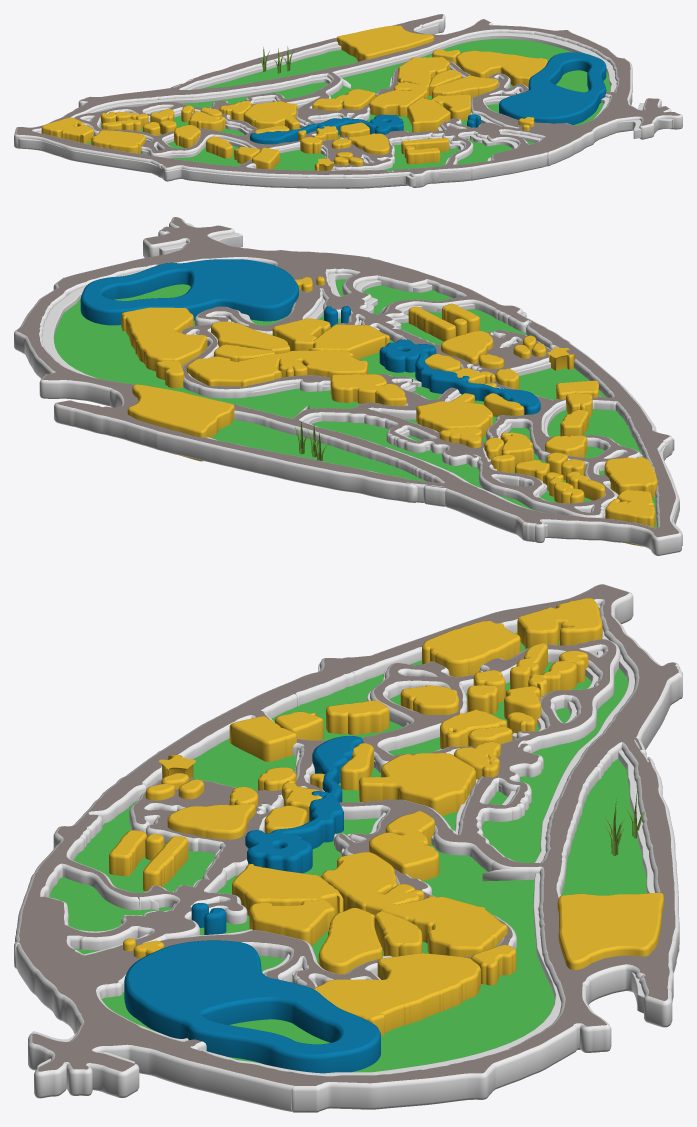
Rendered from mapbelvedere.glb.
3 views of the same model, one above another, from view 1: azimuth 30°, elevation 25°; view 2: azimuth 150°, elevation 25°; view 3: azimuth 270°, elevation 25° (orthographic). The views are drawn at different scales.
Parts seen in each view (by area): view 1: Curve.011, Curve.001, Curve.007, Curve, Curve.046, Curve.006; view 2: Curve.011, Curve.007, Curve.001, Curve.046, Curve.006, Curve; view 3: Curve.011, Curve.001, Curve.007, Curve.046, Curve.006, Curve.
Part boxes in pixels (x1=…): Curve.011: x1=41, y1=25, x2=547, y2=170; Curve.001: x1=16, y1=14, x2=680, y2=174; Curve.007: x1=14, y1=14, x2=682, y2=188; Curve: x1=18, y1=23, x2=673, y2=187; Curve.046: x1=86, y1=39, x2=610, y2=171; Curve.006: x1=250, y1=52, x2=606, y2=144; Curve.011: x1=121, y1=276, x2=657, y2=546; Curve.007: x1=14, y1=217, x2=681, y2=555; Curve.001: x1=17, y1=217, x2=678, y2=537; Curve.046: x1=54, y1=279, x2=656, y2=527; Curve.006: x1=80, y1=259, x2=540, y2=414; Curve: x1=42, y1=223, x2=682, y2=545; Curve.011: x1=109, y1=598, x2=663, y2=1035; Curve.001: x1=18, y1=584, x2=678, y2=1085; Curve.007: x1=14, y1=584, x2=682, y2=1112; Curve.046: x1=49, y1=633, x2=646, y2=1072; Curve.006: x1=124, y1=736, x2=380, y2=1073; Curve: x1=31, y1=605, x2=654, y2=1076.
Bounding box in the file's own units: 0.5733 × 0.038 × 0.321.
